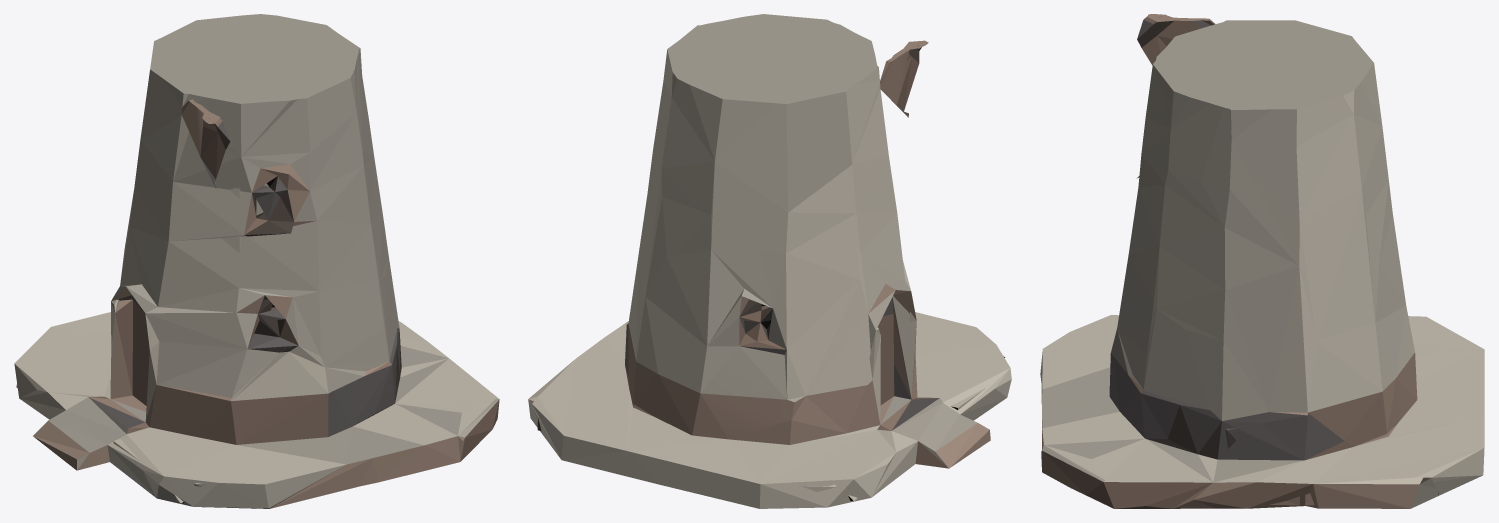
Rendered from etape-2.glb.
3 views of the same model, side by side, from view 1: azimuth 30°, elevation 25°; view 2: azimuth 150°, elevation 25°; view 3: azimuth 270°, elevation 25° (orthographic). The views are drawn at different scales.
Parts seen in each view (by area): view 1: reduit; view 2: reduit; view 3: reduit.
Boxes of the visible parts, bbox=[...] form: reduit: bbox=[14, 14, 499, 508]; reduit: bbox=[528, 14, 1011, 508]; reduit: bbox=[1040, 14, 1484, 508].
Size of the model in its own units: 0.6488 by 0.5812 by 0.6524.
